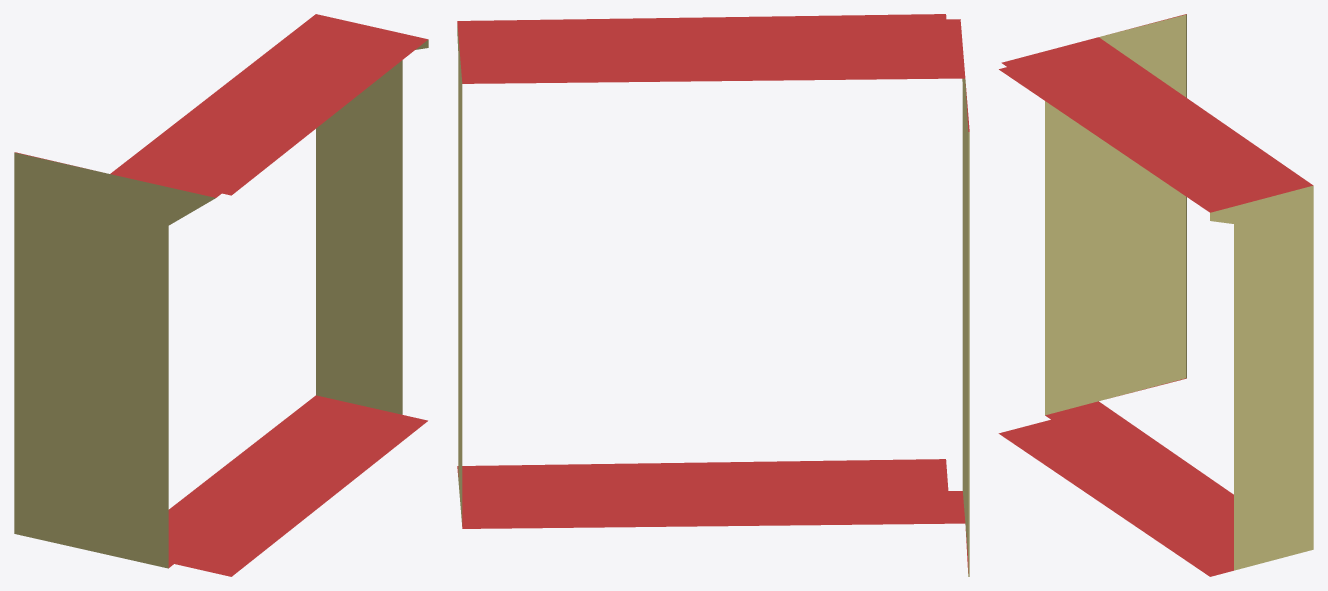
The picture shows the model from 3 angles, left to right: view 1: azimuth 30°, elevation 25°; view 2: azimuth 150°, elevation 25°; view 3: azimuth 270°, elevation 25°; orthographic projection. The views are drawn at different scales.
Size of the model in its own units: 13.78 by 9.24 by 11.77.
